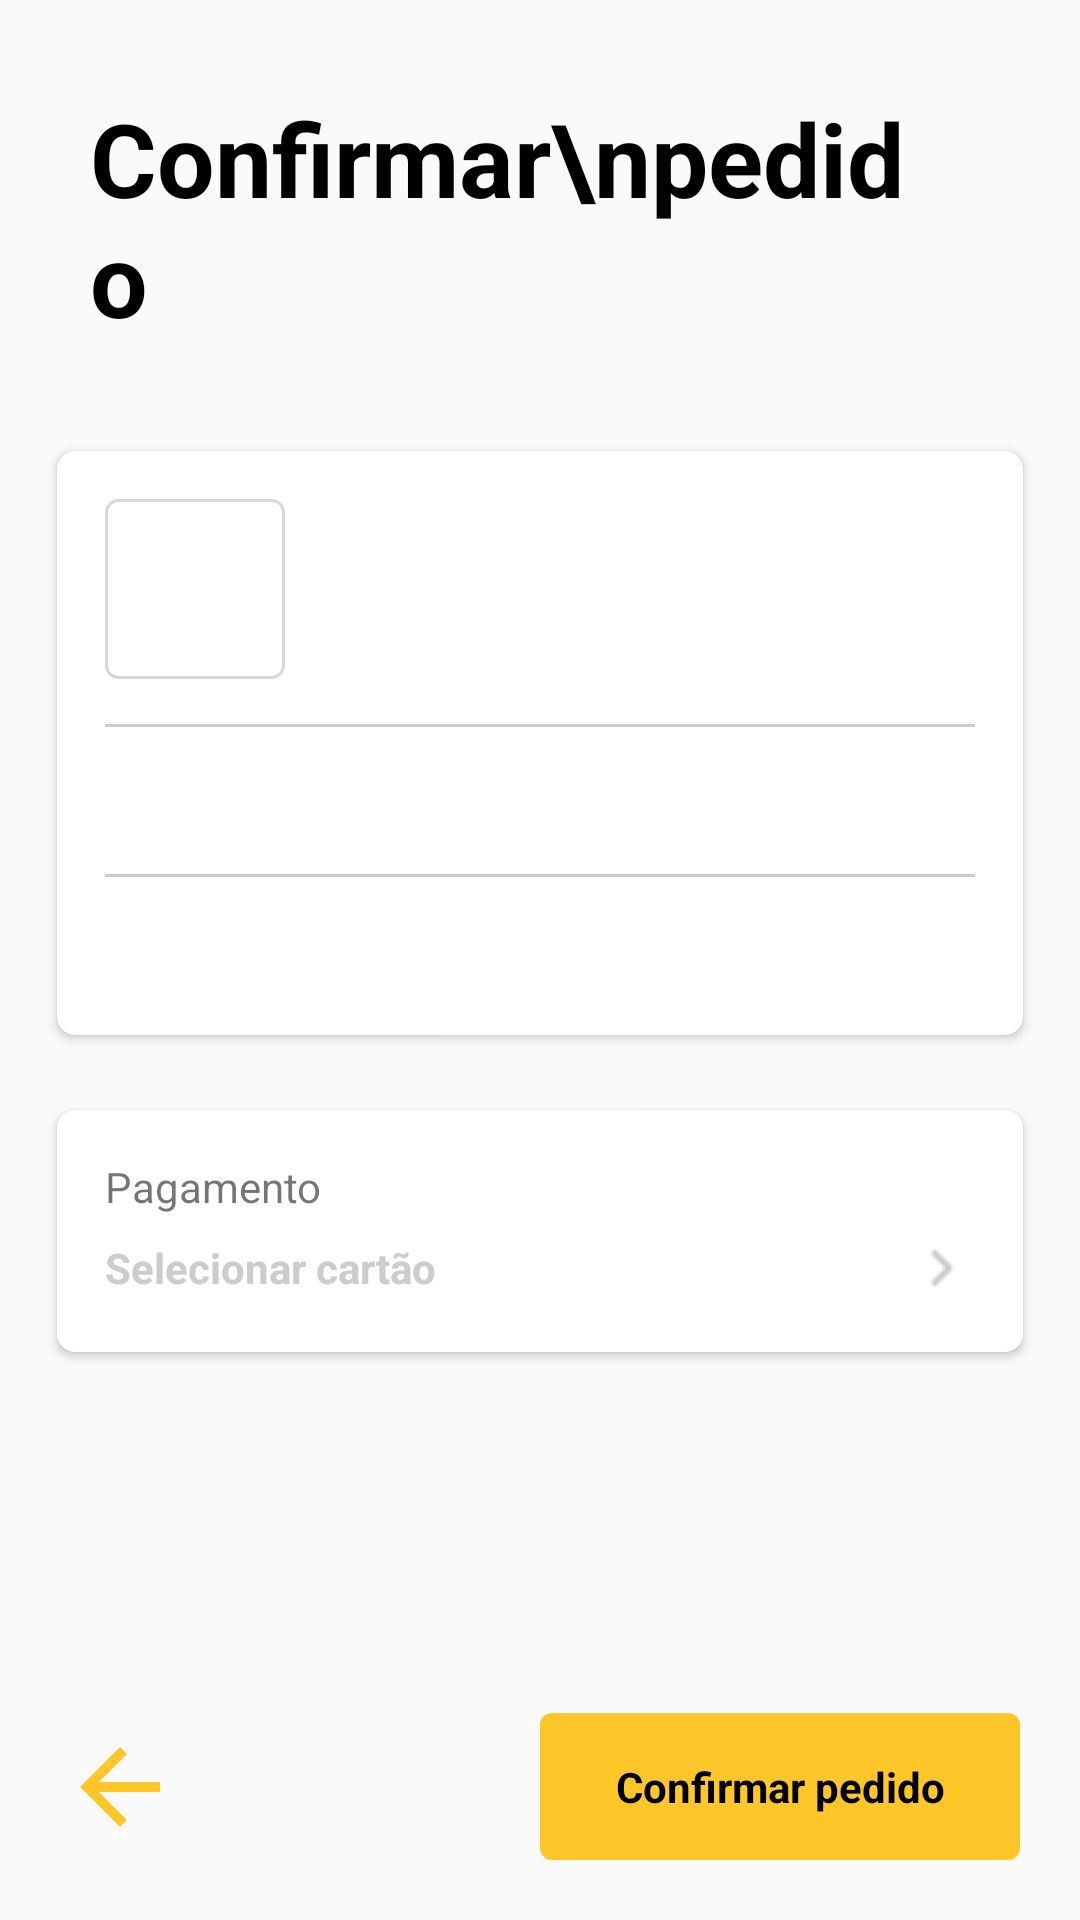

Named icons in this screenshot (1080w x 1920h) and their centers, (x=x, y=y):
next: (x=942, y=1268)
